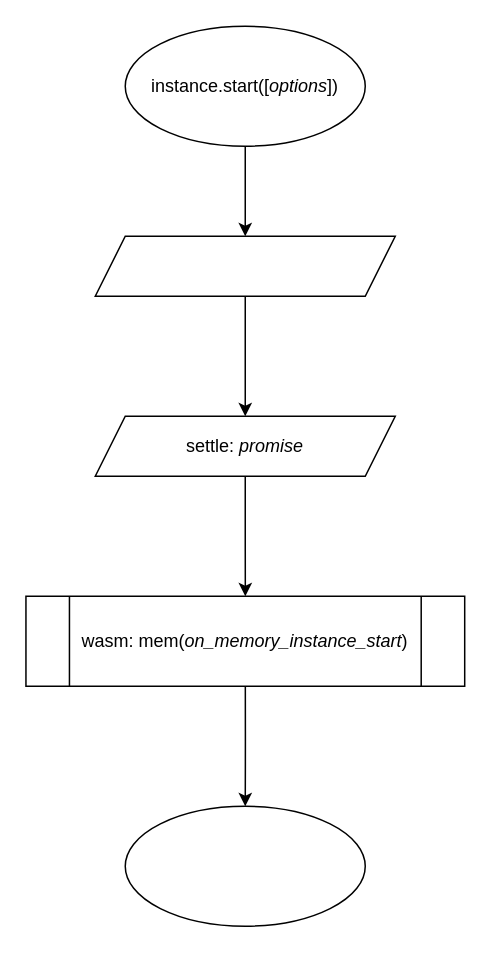
Image size: 492x953. Some labels were removed from this diagram. The shapes that lost their labels are listed below. From the top down, each one's centre as x and y in pixels, then its label:
At [244,265]: "settle: options".
At [244,865]: "return: promise".
